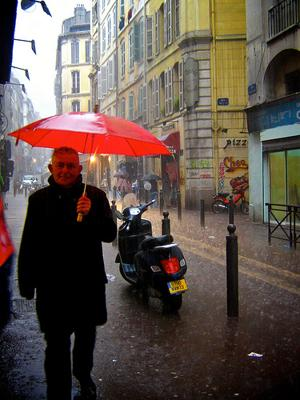person: (18, 147, 116, 400)
